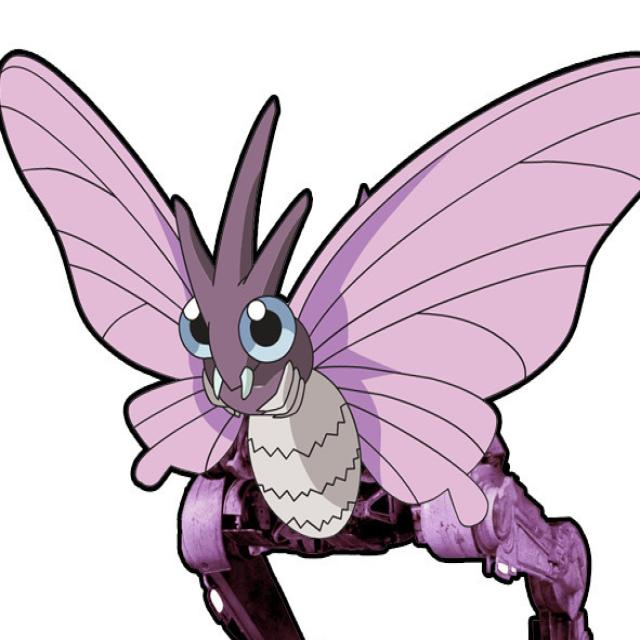Venomoth: (81, 111, 498, 531)
